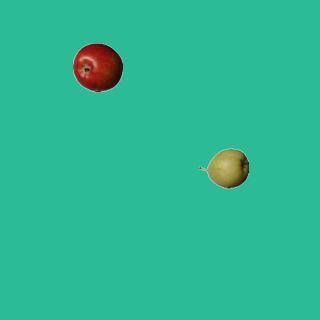Apple Braeburn: (72, 42, 122, 92)
Pear: (198, 143, 248, 193)
